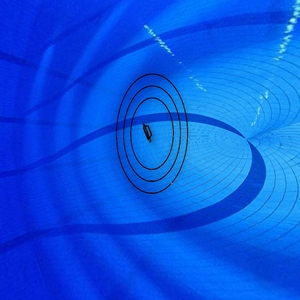circle: (109, 72, 190, 199)
submarine: (137, 119, 163, 149)
